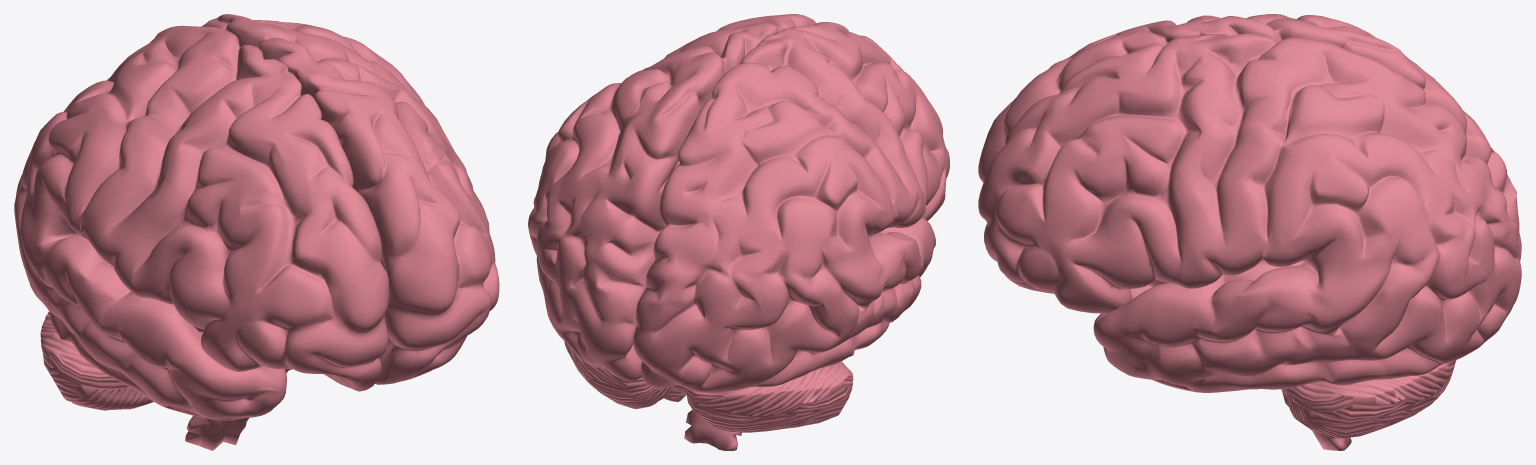
File: brain_project.glb
3 views of the same model, side by side, from view 1: azimuth 30°, elevation 25°; view 2: azimuth 150°, elevation 25°; view 3: azimuth 270°, elevation 25° (orthographic). The views are drawn at different scales.
Visible parts, largest first — view 1: Brain_Part_06, Brain_Part_04, Brain_Part_02, Brain_Part_05; view 2: Brain_Part_06, Brain_Part_04, Brain_Part_02, Brain_Part_05; view 3: Brain_Part_04, Brain_Part_06, Brain_Part_02, Brain_Part_05.
Boxes of the visible parts, <box> form: Brain_Part_06: <box>14,25,388,420</box>; Brain_Part_04: <box>201,14,499,384</box>; Brain_Part_02: <box>40,312,292,410</box>; Brain_Part_05: <box>185,326,289,450</box>; Brain_Part_06: <box>633,22,949,392</box>; Brain_Part_04: <box>528,14,816,381</box>; Brain_Part_02: <box>564,341,853,432</box>; Brain_Part_05: <box>684,409,741,450</box>; Brain_Part_04: <box>978,33,1521,392</box>; Brain_Part_06: <box>978,14,1521,260</box>; Brain_Part_02: <box>1283,360,1456,438</box>; Brain_Part_05: <box>1149,259,1351,450</box>.
Size of the model in its own units: 3.8 by 4.02 by 4.73.
